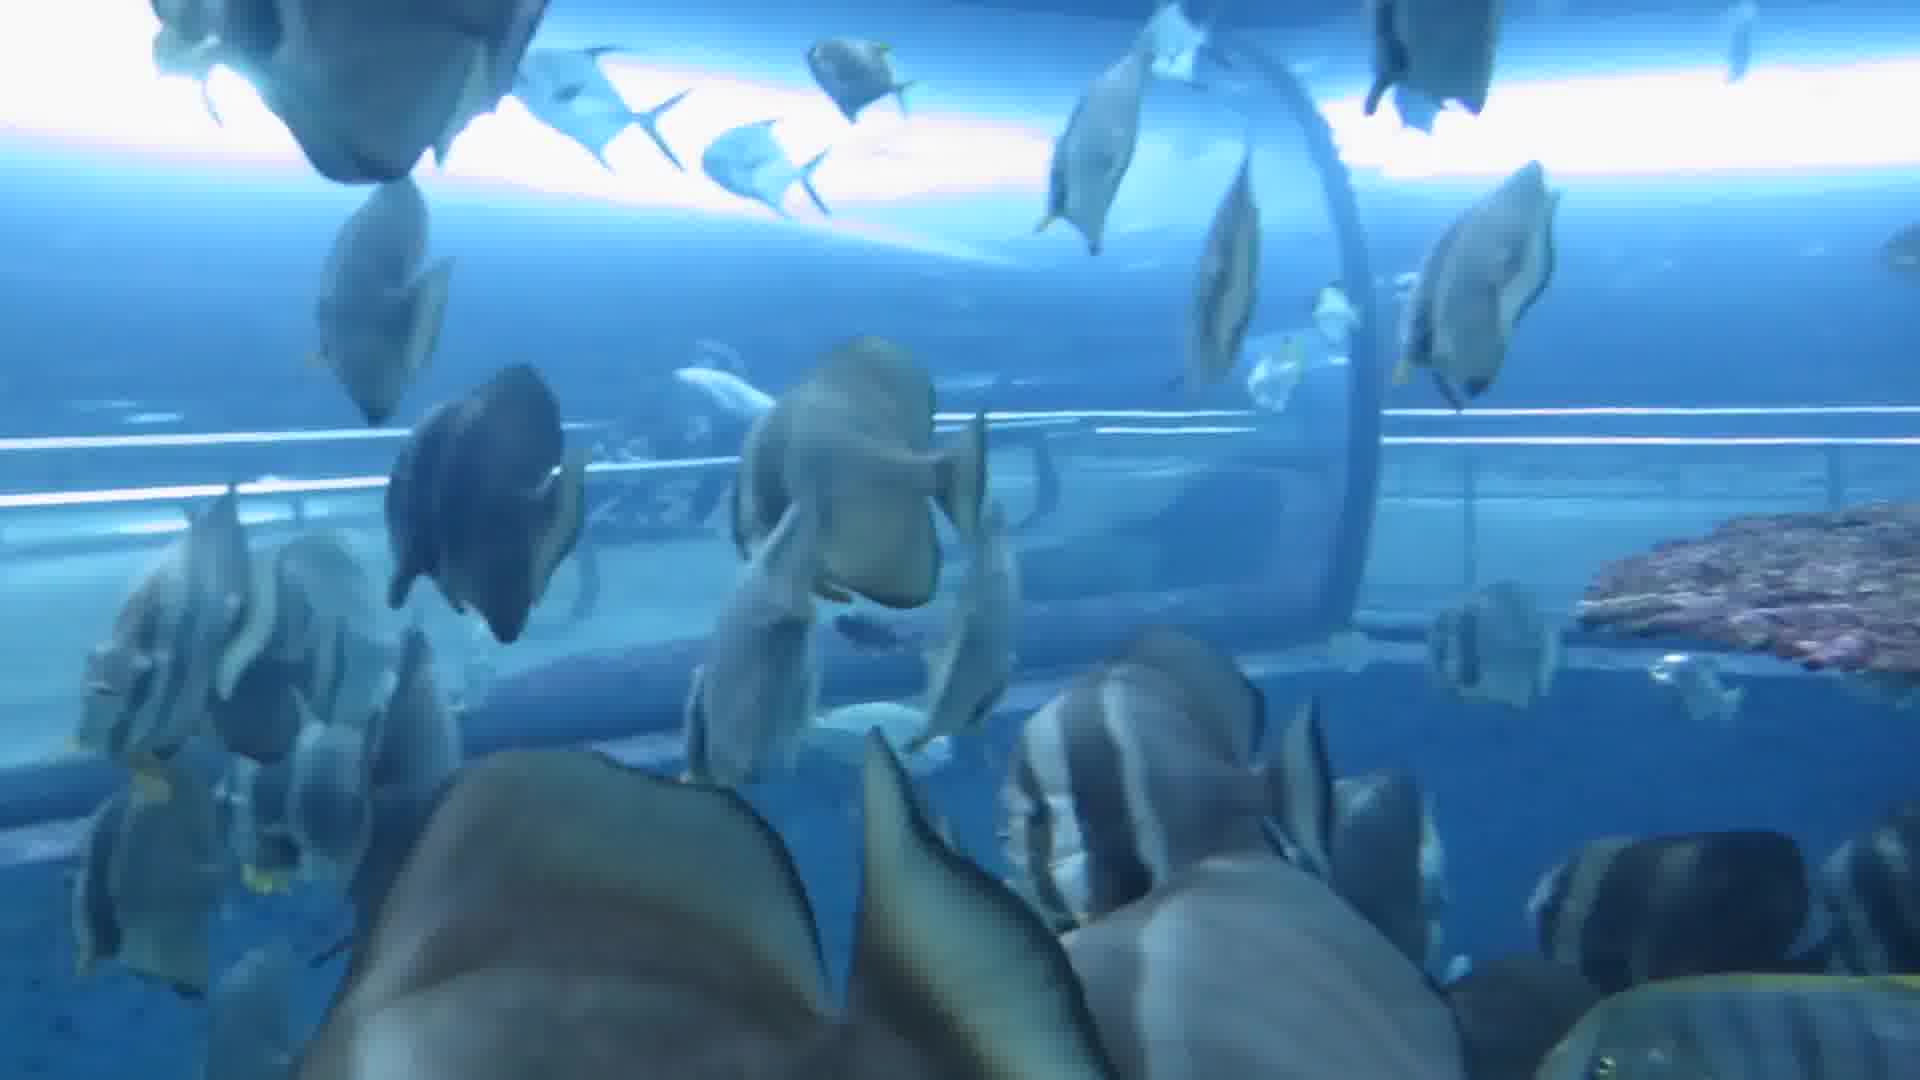Platax teira: (986, 608, 1341, 899), (662, 314, 1015, 605), (1360, 142, 1713, 433), (353, 378, 609, 633), (51, 502, 306, 756), (269, 158, 524, 411), (967, 15, 1221, 268)
